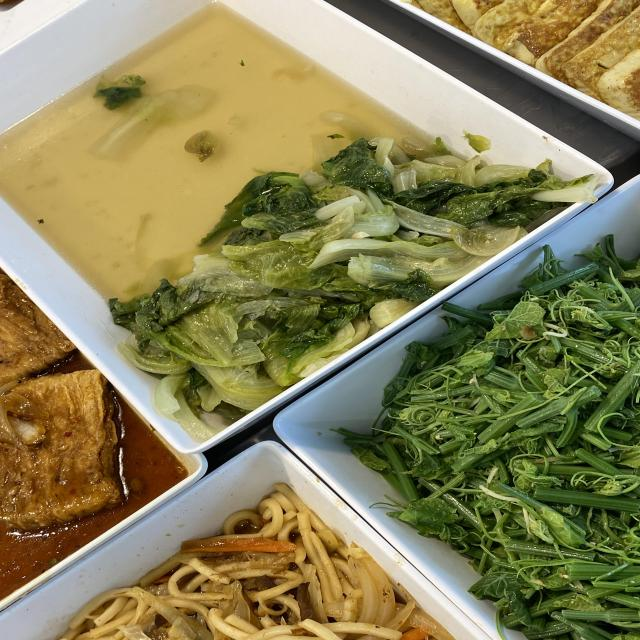Fushan-lettuce: (101, 150, 432, 296)
